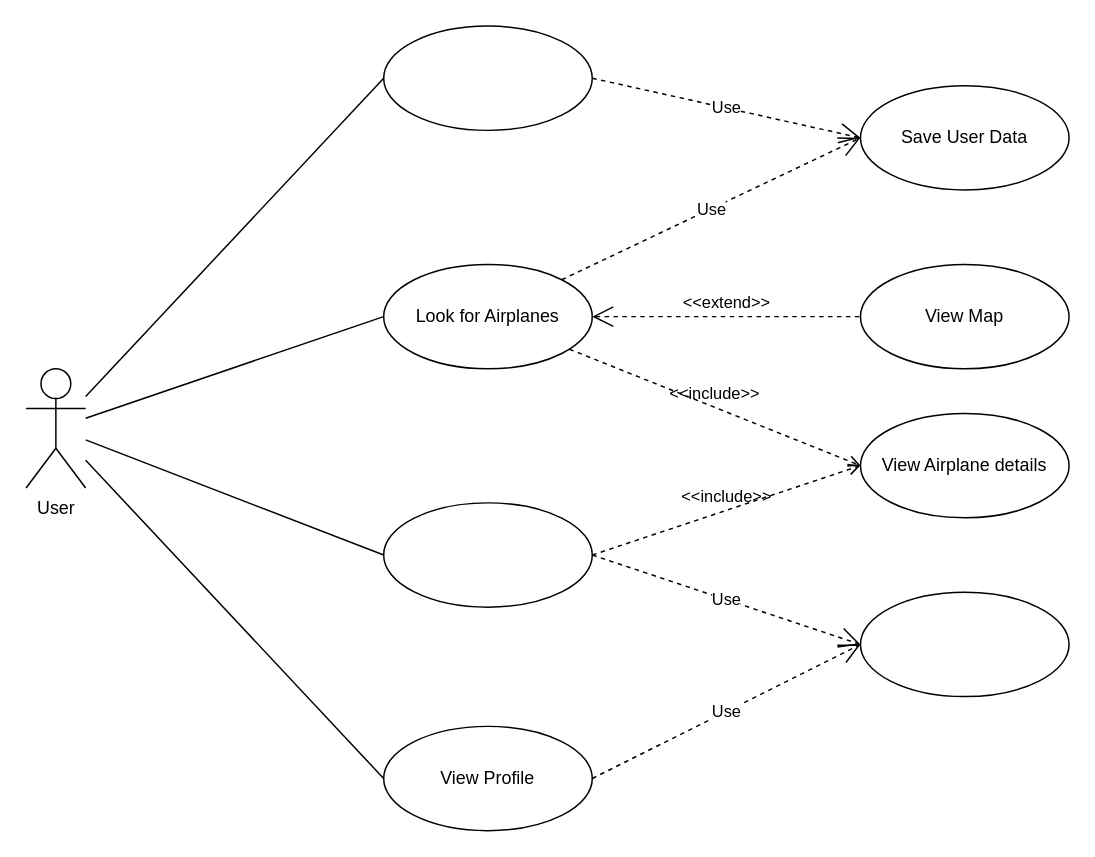
Some shapes in this 1095 by 857 pixel diagram are drawn without their labels. Here are the shapes that lost their labels. From the top down, the box of each, then its label:
(382, 25, 592, 130): Change Profile
(382, 501, 592, 607): View Collection
(859, 591, 1069, 697): Get User Data
